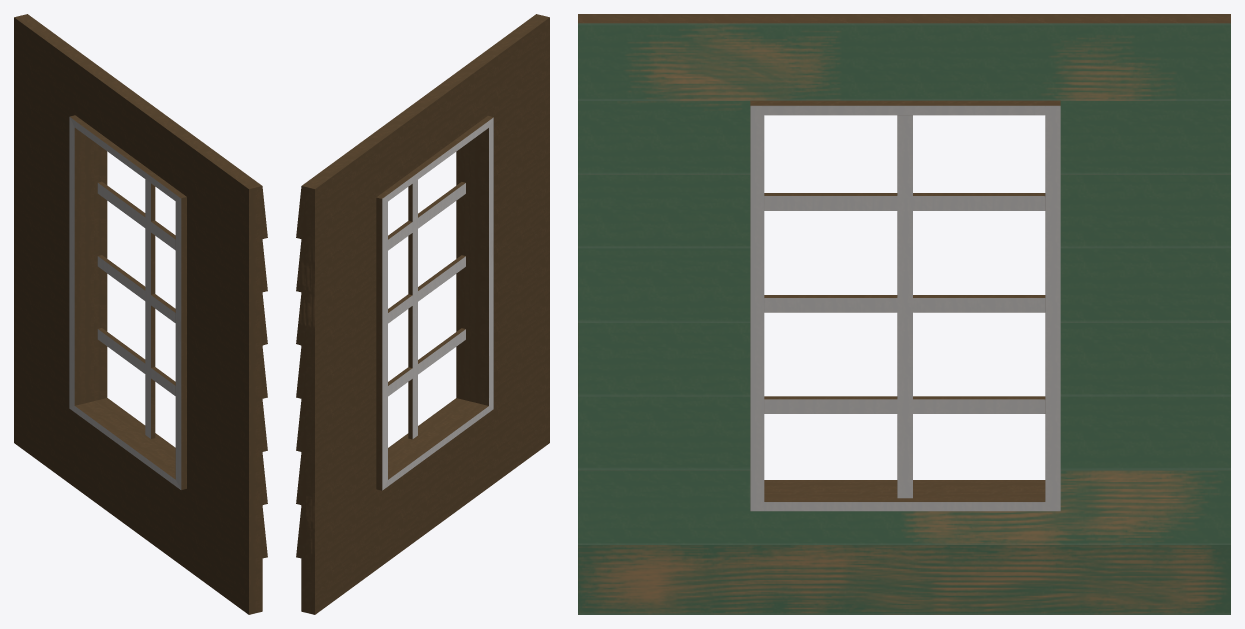
File: WallwWindow.fbx
3 renders of one model, left to right at view 1: azimuth 30°, elevation 25°; view 2: azimuth 150°, elevation 25°; view 3: azimuth 270°, elevation 25°, orthographic. The views are drawn at different scales.
Visible parts, largest first — view 1: WallWindow; view 2: WallWindow; view 3: WallWindow.
Part boxes in pixels (bbox=[...]): WallWindow: bbox=[14, 14, 267, 614]; WallWindow: bbox=[296, 14, 549, 614]; WallWindow: bbox=[578, 14, 1230, 614].
Bounding box in the file's own units: 25.46 × 316 × 316.
